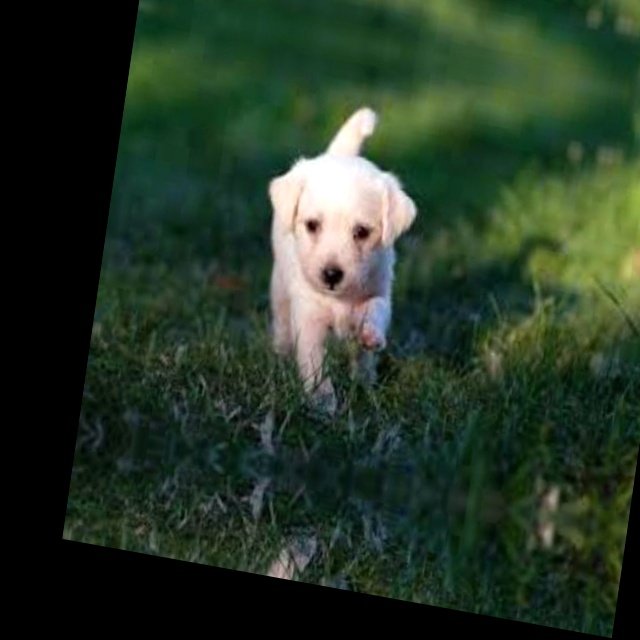dog: (218, 83, 449, 429), (194, 515, 387, 596)
